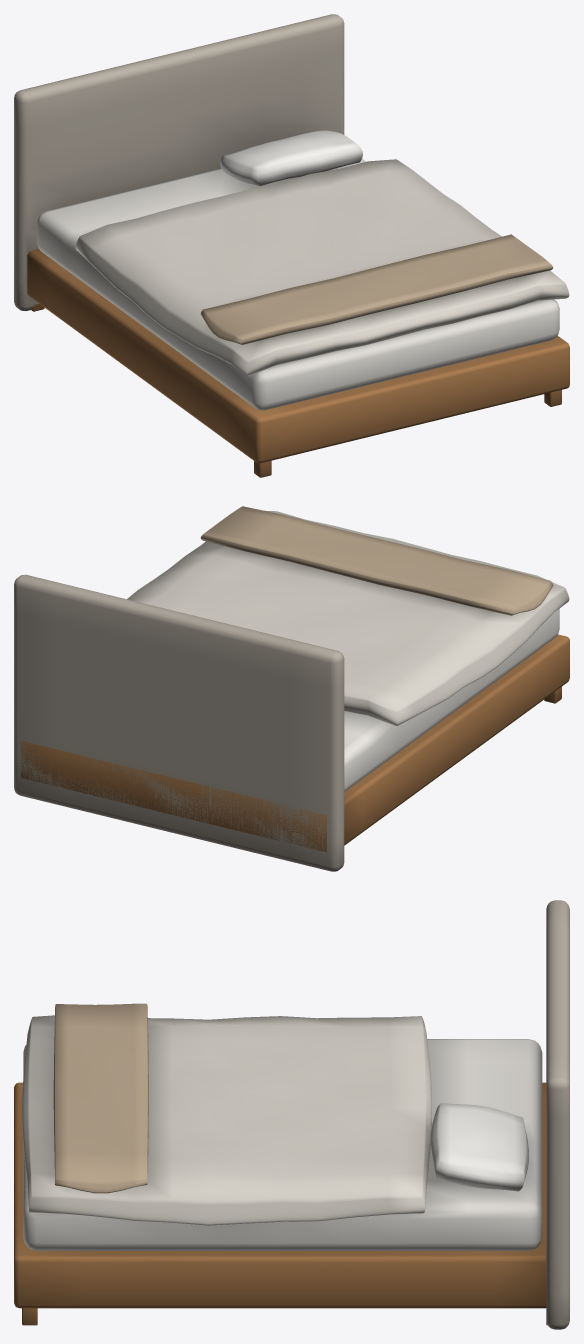
The model's file is lit160.glb.
The picture shows the model from 3 angles, top to bottom: view 1: azimuth 30°, elevation 25°; view 2: azimuth 150°, elevation 25°; view 3: azimuth 270°, elevation 25°; orthographic projection. The views are drawn at different scales.
Visible parts, largest first — view 1: couette, tete, cadre, matelas, plaid, oreillers; view 2: tete, couette, cadre, plaid, matelas; view 3: couette, cadre, matelas, plaid, tete, oreillers.
Boxes of the visible parts, x1,y1,x2,y2 form: couette: [75, 159, 569, 376]; tete: [14, 14, 344, 310]; cadre: [27, 249, 569, 477]; matelas: [37, 159, 559, 410]; plaid: [200, 234, 553, 344]; oreillers: [220, 129, 362, 186]; tete: [14, 574, 344, 871]; couette: [127, 510, 569, 726]; cadre: [21, 634, 569, 852]; plaid: [200, 506, 553, 615]; matelas: [344, 608, 559, 791]; couette: [22, 1015, 431, 1225]; cadre: [14, 1082, 547, 1325]; matelas: [23, 1039, 542, 1250]; plaid: [53, 1003, 148, 1193]; tete: [546, 900, 569, 1329]; oreillers: [430, 1103, 528, 1191].
Size of the model in its own units: 1.68 by 1.05 by 2.1.
